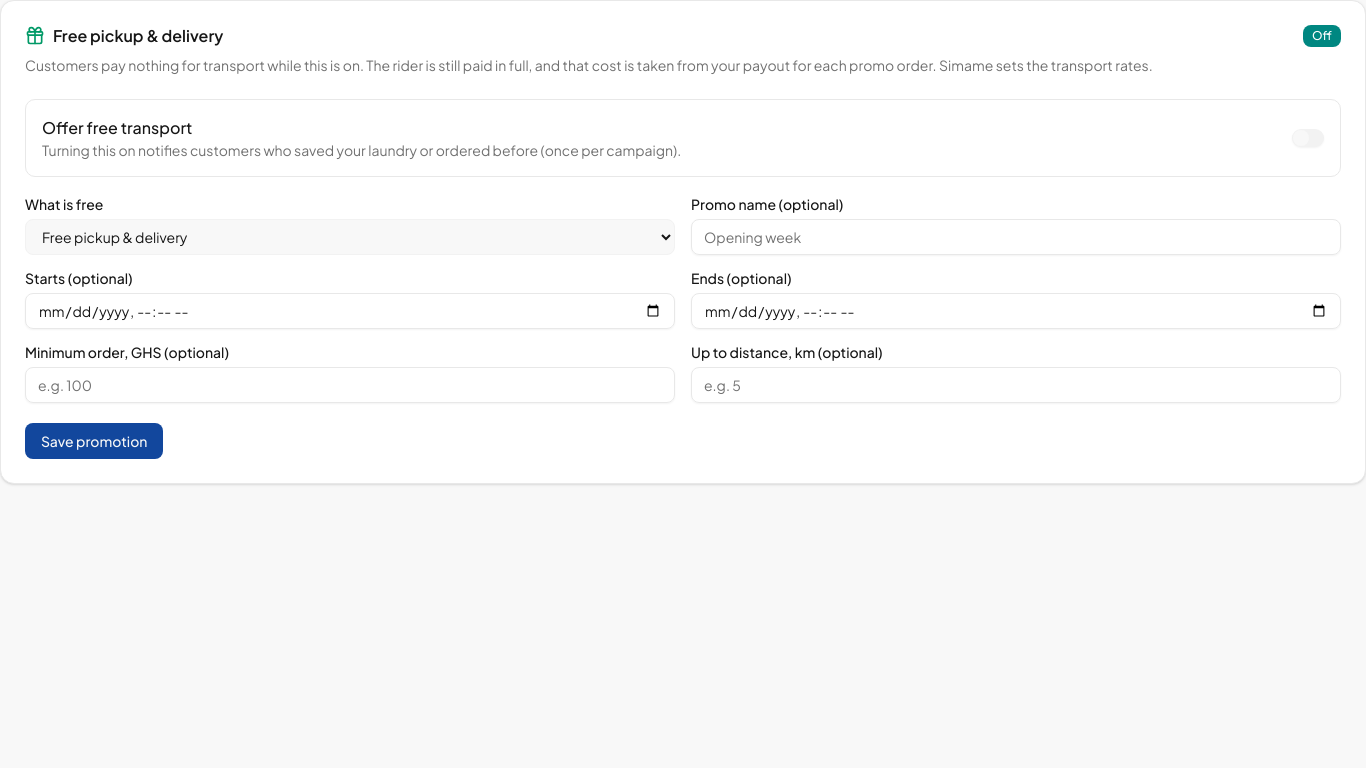
Test case: FreeDeliveryPromoCard › shows the server validation message
The image size is (1366, 768).
Click the button "Save promotion": (94, 441) [25,423,164,459]
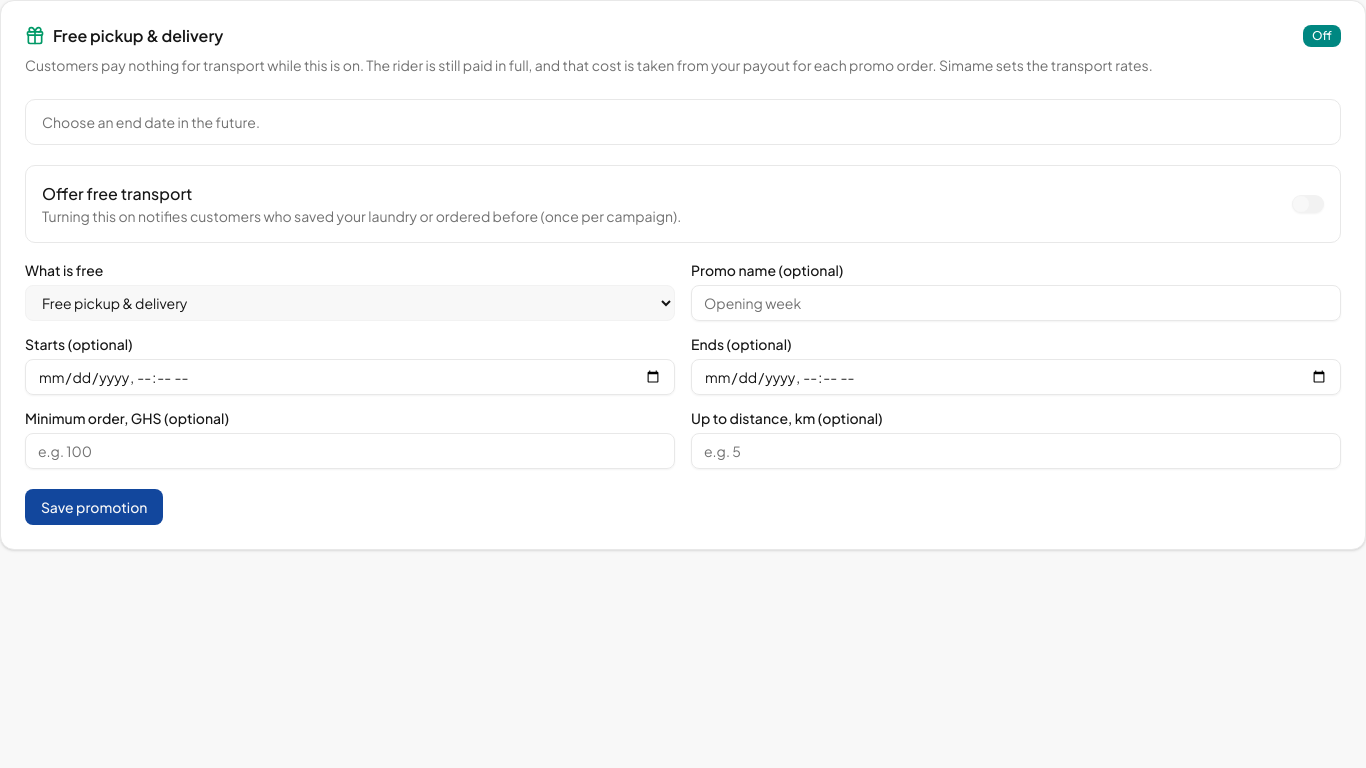
Check: the text "Choose an end date in the future." is shown, box [42,113,260,131]
